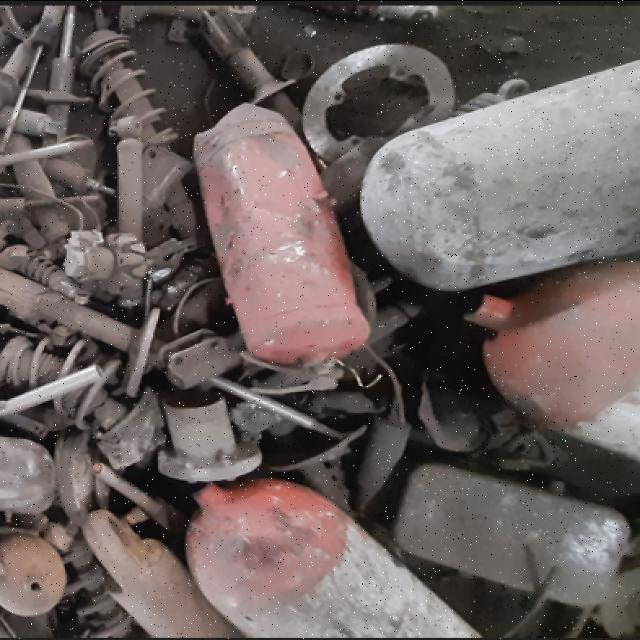cylinder: (187, 478, 484, 638)
shock absorber: (76, 27, 177, 150), (0, 244, 91, 303)
